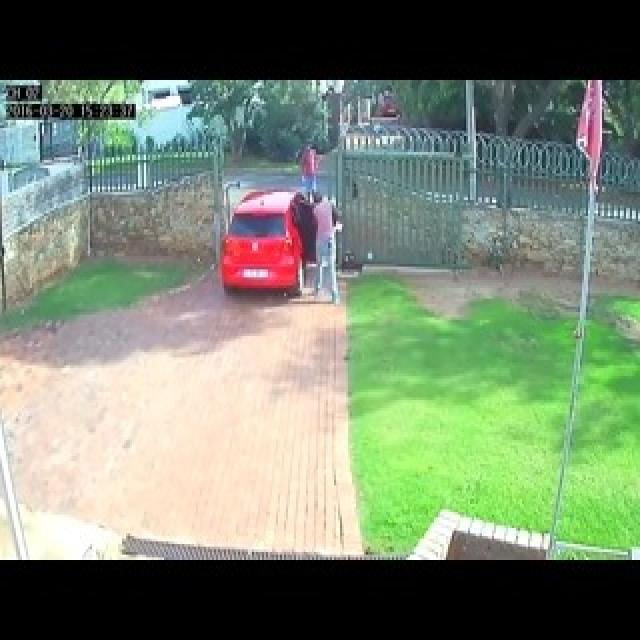thief: (297, 188, 348, 303), (287, 131, 323, 187)
